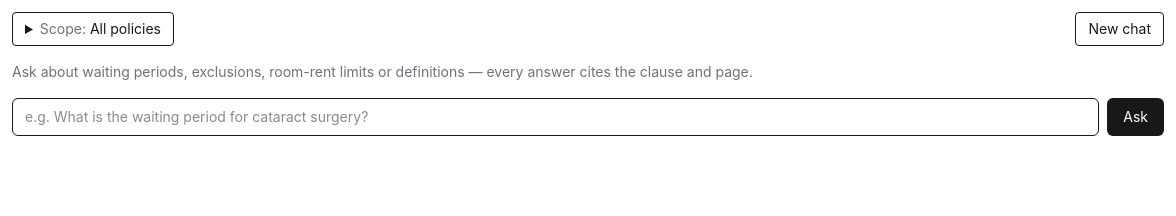
Test: ChatView › puts the question back in the input and drops its bubble when the request is rejected
In the field: (556, 117) top-left (12, 98), bottom-right (1099, 136), type "What about cataract?"
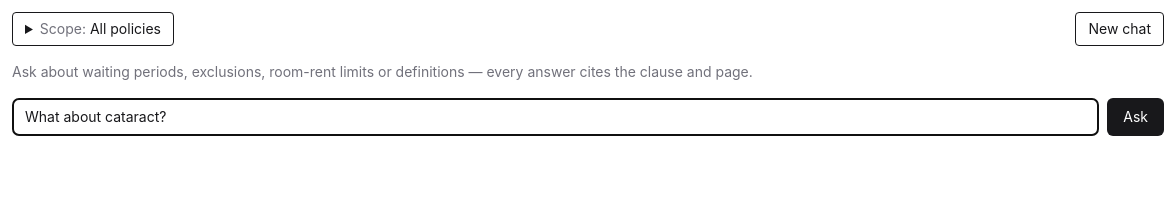
Click the button "Ask": (1136, 117) top-left (1107, 98), bottom-right (1164, 136)
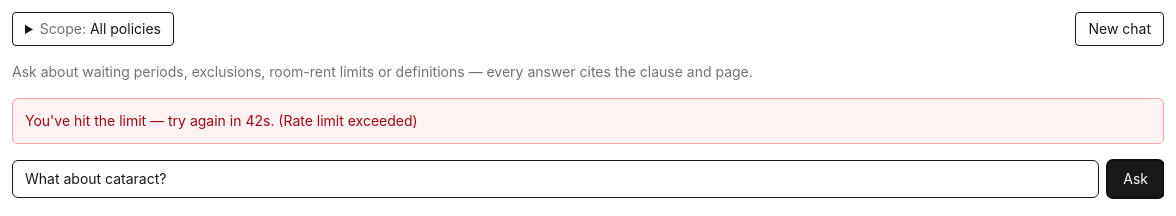
Result: the message "You've hit the limit — try again in 42s. (Rate limit exceeded)" is shown at top-left (12, 98), bottom-right (1164, 144)
